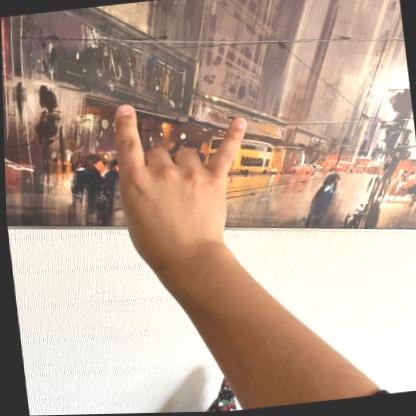U: (96, 86, 264, 274)
